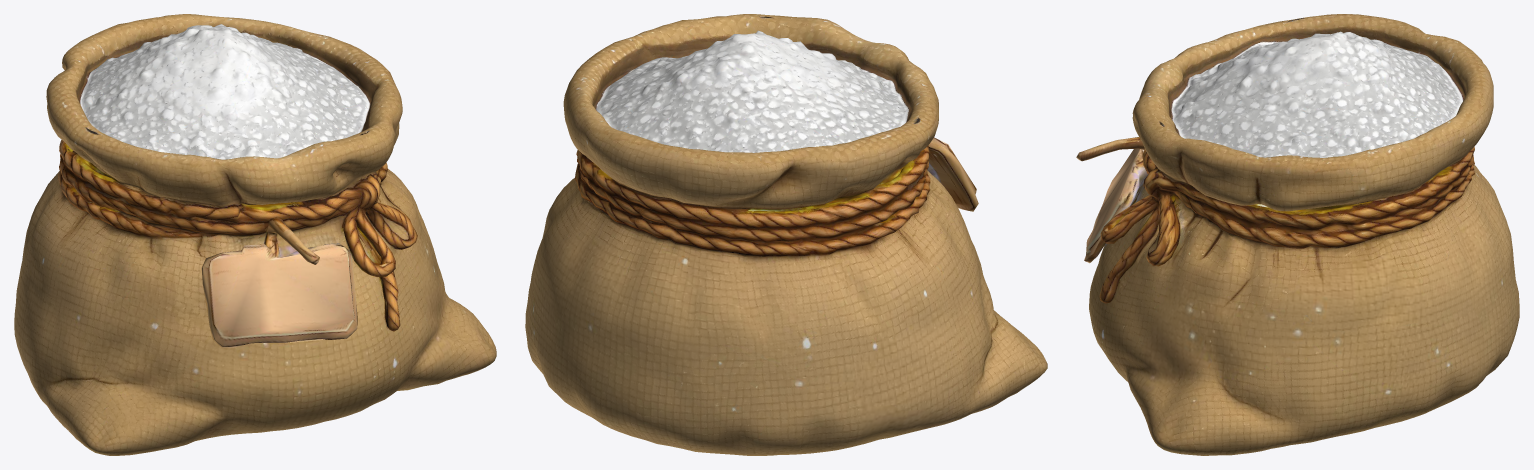
Rendered from Salt_bag.fbx.
3 views of the same model, side by side, from view 1: azimuth 30°, elevation 25°; view 2: azimuth 150°, elevation 25°; view 3: azimuth 270°, elevation 25° (orthographic). The views are drawn at different scales.
Parts seen in each view (by area): view 1: Mesh_0.001; view 2: Mesh_0.001; view 3: Mesh_0.001.
Part boxes in pixels (box(x1,y1,x2,y2)): Mesh_0.001: box(14, 14, 496, 455); Mesh_0.001: box(525, 14, 1047, 455); Mesh_0.001: box(1076, 14, 1519, 455).
Size of the model in its own units: 38.04 by 29.75 by 35.69.
1 material, 1 textured.
